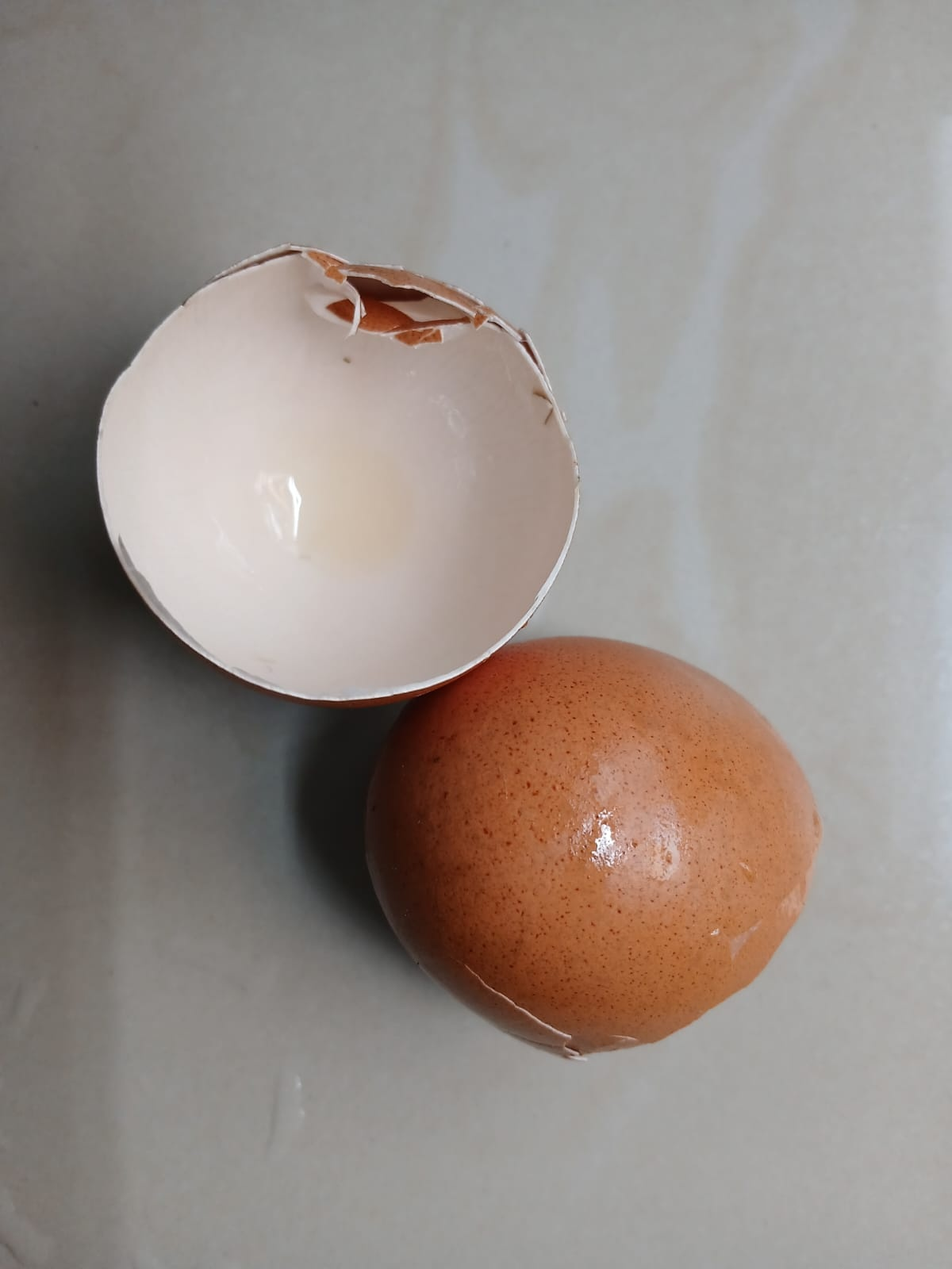Organico: (90, 242, 823, 1058)
